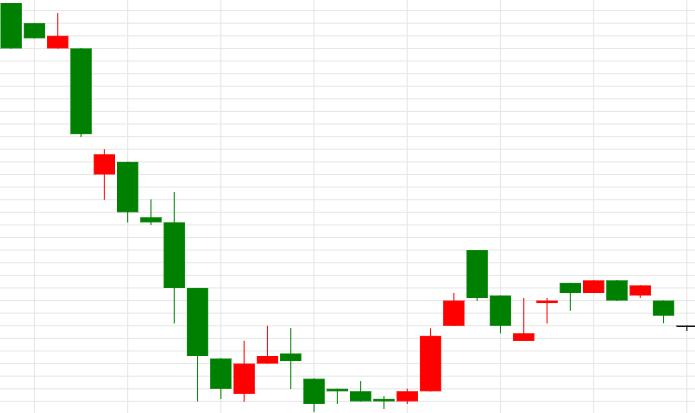bearish_engulfing_fall: (512, 281, 627, 341)
bullish_engulfing_rise: (117, 163, 255, 404)
